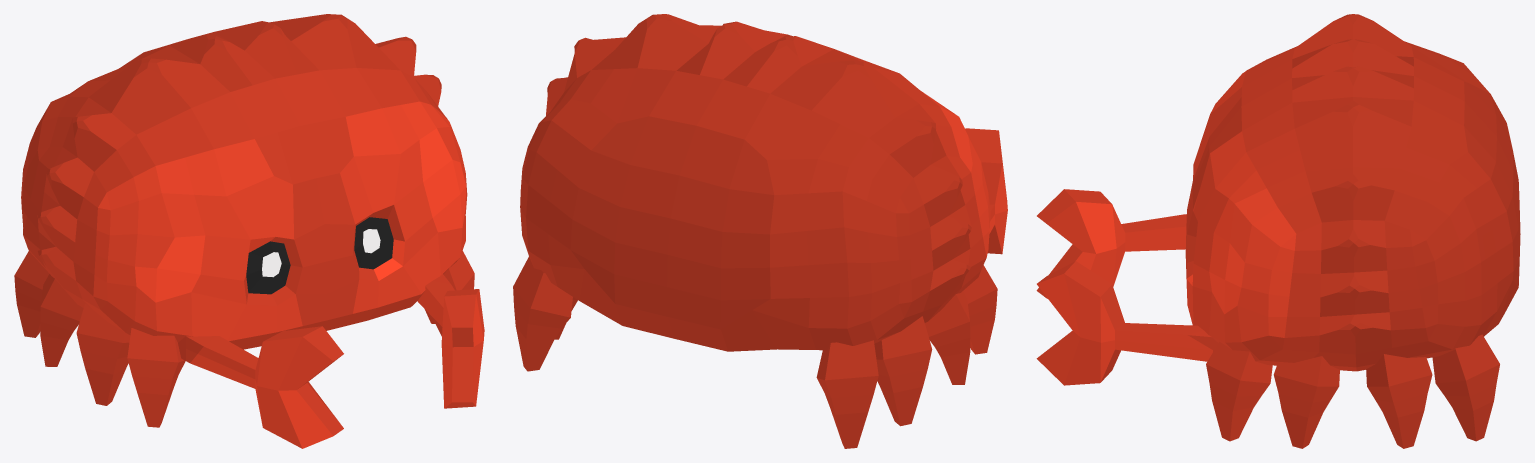
File: player.glb
3 views of the same model, side by side, from view 1: azimuth 30°, elevation 25°; view 2: azimuth 150°, elevation 25°; view 3: azimuth 270°, elevation 25° (orthographic). The views are drawn at different scales.
Parts seen in each view (by area): view 1: rust; view 2: rust; view 3: rust.
Part boxes in pixels (box(x1,y1,x2,y2)): rust: box(14, 14, 484, 448); rust: box(513, 14, 1007, 448); rust: box(1036, 14, 1520, 448).
Size of the model in its own units: 0.6176 by 0.4522 by 0.6382.
